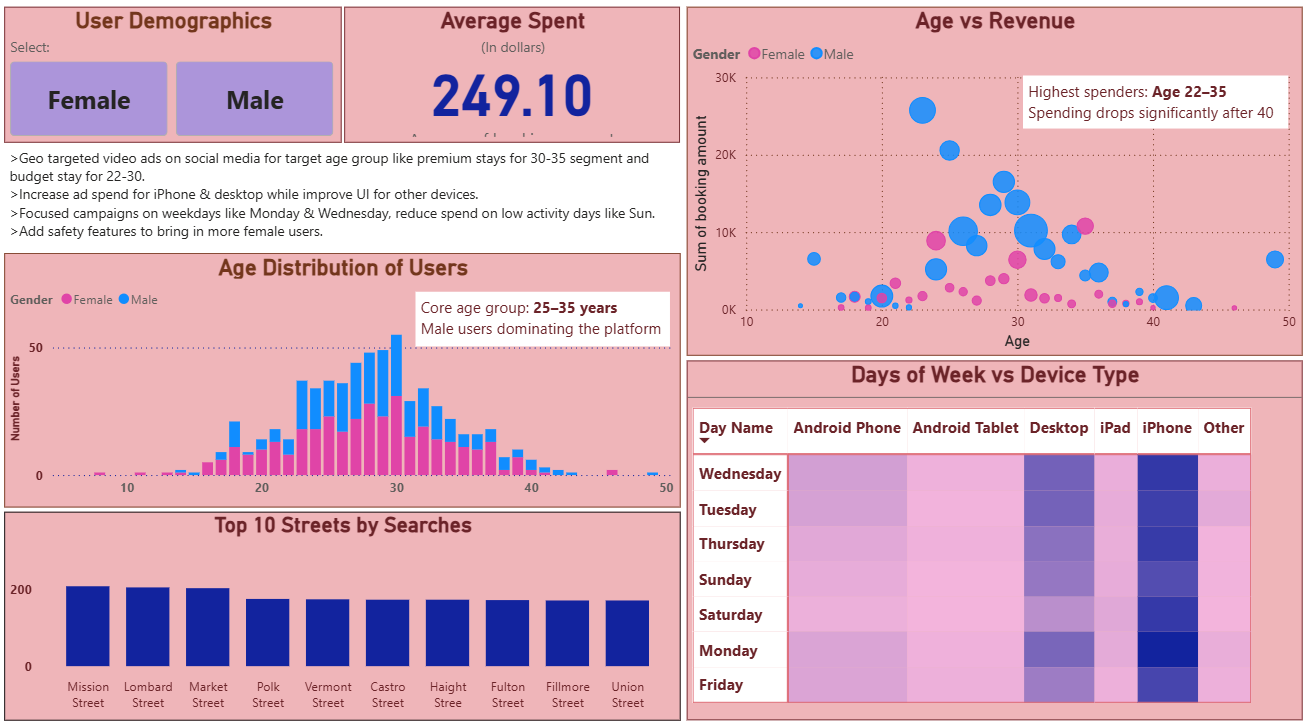

The dashboard page shown, as its layout file describes it:
{"tool":"powerbi","page":{"name":"User Demographics","canvas":[1280,720],"ordinal":1},"visuals":[{"type":"advancedSlicerVisual","title":"User Demographics","fields":{"Label":["CountNonNull(Search Data.id session)"],"Values":["Unique Users.Gender"]},"box":[15.7,18.6,325.7,131.4],"z":0},{"type":"columnChart","title":"Age Distribution of Users","fields":{"Category":["Unique Users.Age"],"Series":["Unique Users.Gender"],"Y":["CountNonNull(Unique Users.id visitor)"]},"box":[15.7,255.7,652.9,245.7],"z":1000},{"type":"scatterChart","title":"Age vs Revenue","fields":{"Series":["Unique Users.Gender"],"Size":["CountNonNull(Search Data.id session)"],"X":["Unique Users.Age"],"Y":["Sum(Search Data.booking amount)"]},"box":[674.3,18.6,594.3,337.1],"z":5000},{"type":"columnChart","title":"Top 10 Streets by Searches","fields":{"Category":["Locations.street"],"Y":["Search Data.Total searchs"]},"box":[15.7,505.7,652.9,201.4],"z":6000},{"type":"pivotTable","title":"Days of Week vs Device Type","fields":{"Columns":["Search Data.Device"],"Rows":["Dates.Day Name"],"Values":["CountNonNull(Search Data.id session)"]},"box":[674.3,360,594.3,347.1],"z":7000},{"type":"card","title":"Average Spent","fields":{"Values":["Avg(Search Data.booking amount)"]},"box":[344.3,18.6,324.3,131.4],"z":8000},{"type":"textbox","box":[412.9,292.9,245.7,52.9],"z":9000},{"type":"textbox","box":[998.6,84.3,255.7,51.4],"z":10000},{"type":"textbox","box":[15.7,150,652.9,105.7],"z":11000}]}

Visuals, with their boxes in screenshot pixels (x1, y1, x2, y2), scaled from the page's 1280x720 canvas onto the 1307x722 screenshot:
"User Demographics" advancedSlicerVisual: 16, 19, 349, 150
"Age Distribution of Users" columnChart: 16, 256, 683, 503
"Age vs Revenue" scatterChart: 689, 19, 1295, 357
"Top 10 Streets by Searches" columnChart: 16, 507, 683, 709
"Days of Week vs Device Type" pivotTable: 689, 361, 1295, 709
"Average Spent" card: 352, 19, 683, 150
textbox: 422, 294, 672, 347
textbox: 1020, 85, 1281, 136
textbox: 16, 150, 683, 256
